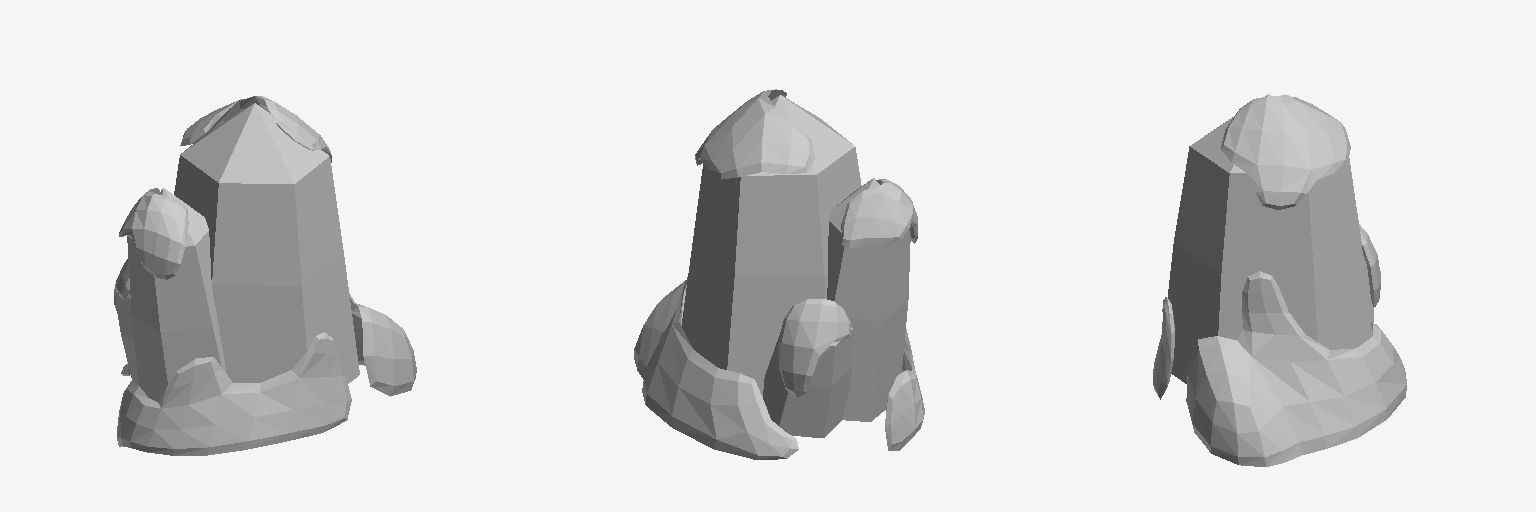
Rendered from ice_rock_1.obj.
The picture shows the model from 3 angles: view 1: azimuth 30°, elevation 25°; view 2: azimuth 150°, elevation 25°; view 3: azimuth 270°, elevation 25°; orthographic projection.
Parts seen in each view (by area): view 1: Cube_Cube.002, Cube.001_Cube.003; view 2: Cube_Cube.002, Cube.001_Cube.003; view 3: Cube.001_Cube.003, Cube_Cube.002.
Boxes of the visible parts, x1,y1,x2,y2 form: Cube_Cube.002: [114, 103, 359, 402]; Cube.001_Cube.003: [114, 96, 416, 455]; Cube_Cube.002: [682, 95, 910, 437]; Cube.001_Cube.003: [634, 89, 924, 459]; Cube.001_Cube.003: [1153, 95, 1406, 466]; Cube_Cube.002: [1168, 94, 1373, 383].
Bounding box in the file's own units: 4.1 × 4.47 × 3.21.